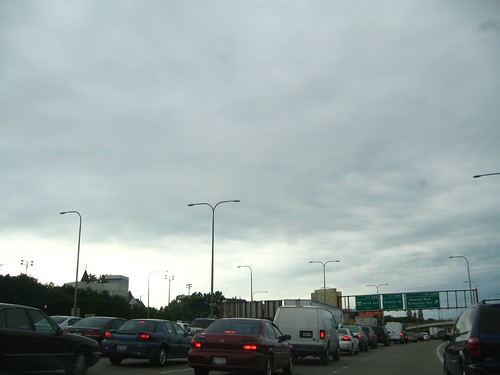car: (188, 317, 292, 375), (106, 313, 192, 365)
light pole: (184, 196, 240, 317), (55, 206, 83, 316), (448, 249, 478, 306), (307, 256, 340, 304)
sky: (1, 1, 495, 277)
van: (275, 305, 339, 360)
